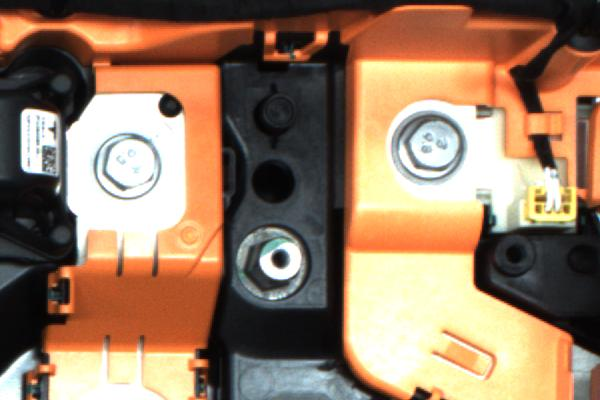nut_b: (387, 105, 475, 195), (82, 132, 174, 205)
